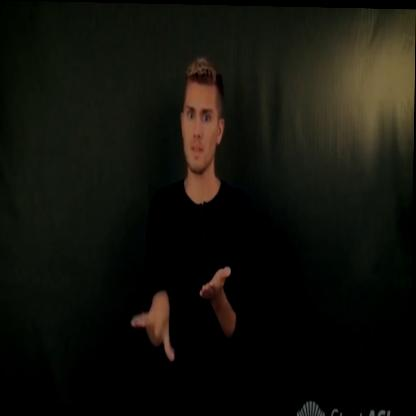Expensive: (131, 239, 235, 365)
